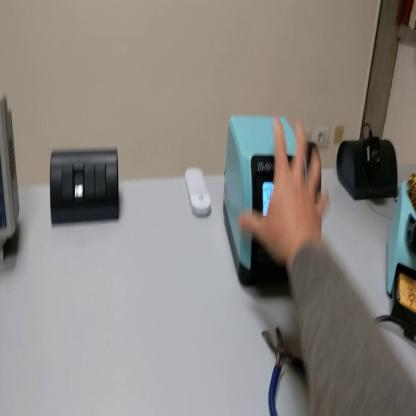hand: (239, 118, 329, 266)
oscilloscope: (1, 95, 22, 262)
pliers: (255, 318, 312, 416)
socket: (338, 138, 399, 203), (307, 142, 324, 227)
welder base: (388, 176, 416, 340)
welder station: (224, 115, 309, 291)
